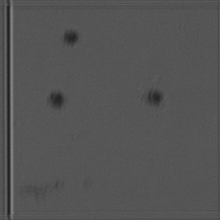Dead Cell: (144, 85, 170, 110), (61, 26, 87, 49), (47, 90, 68, 112)
